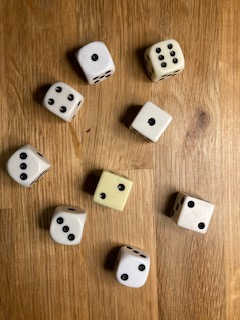four: (41, 80, 85, 123)
one: (127, 99, 174, 146), (74, 39, 118, 86)
six: (143, 38, 187, 83)
three: (5, 142, 51, 189), (48, 203, 89, 247)
two: (168, 189, 217, 235), (90, 168, 134, 214), (113, 244, 152, 290)
